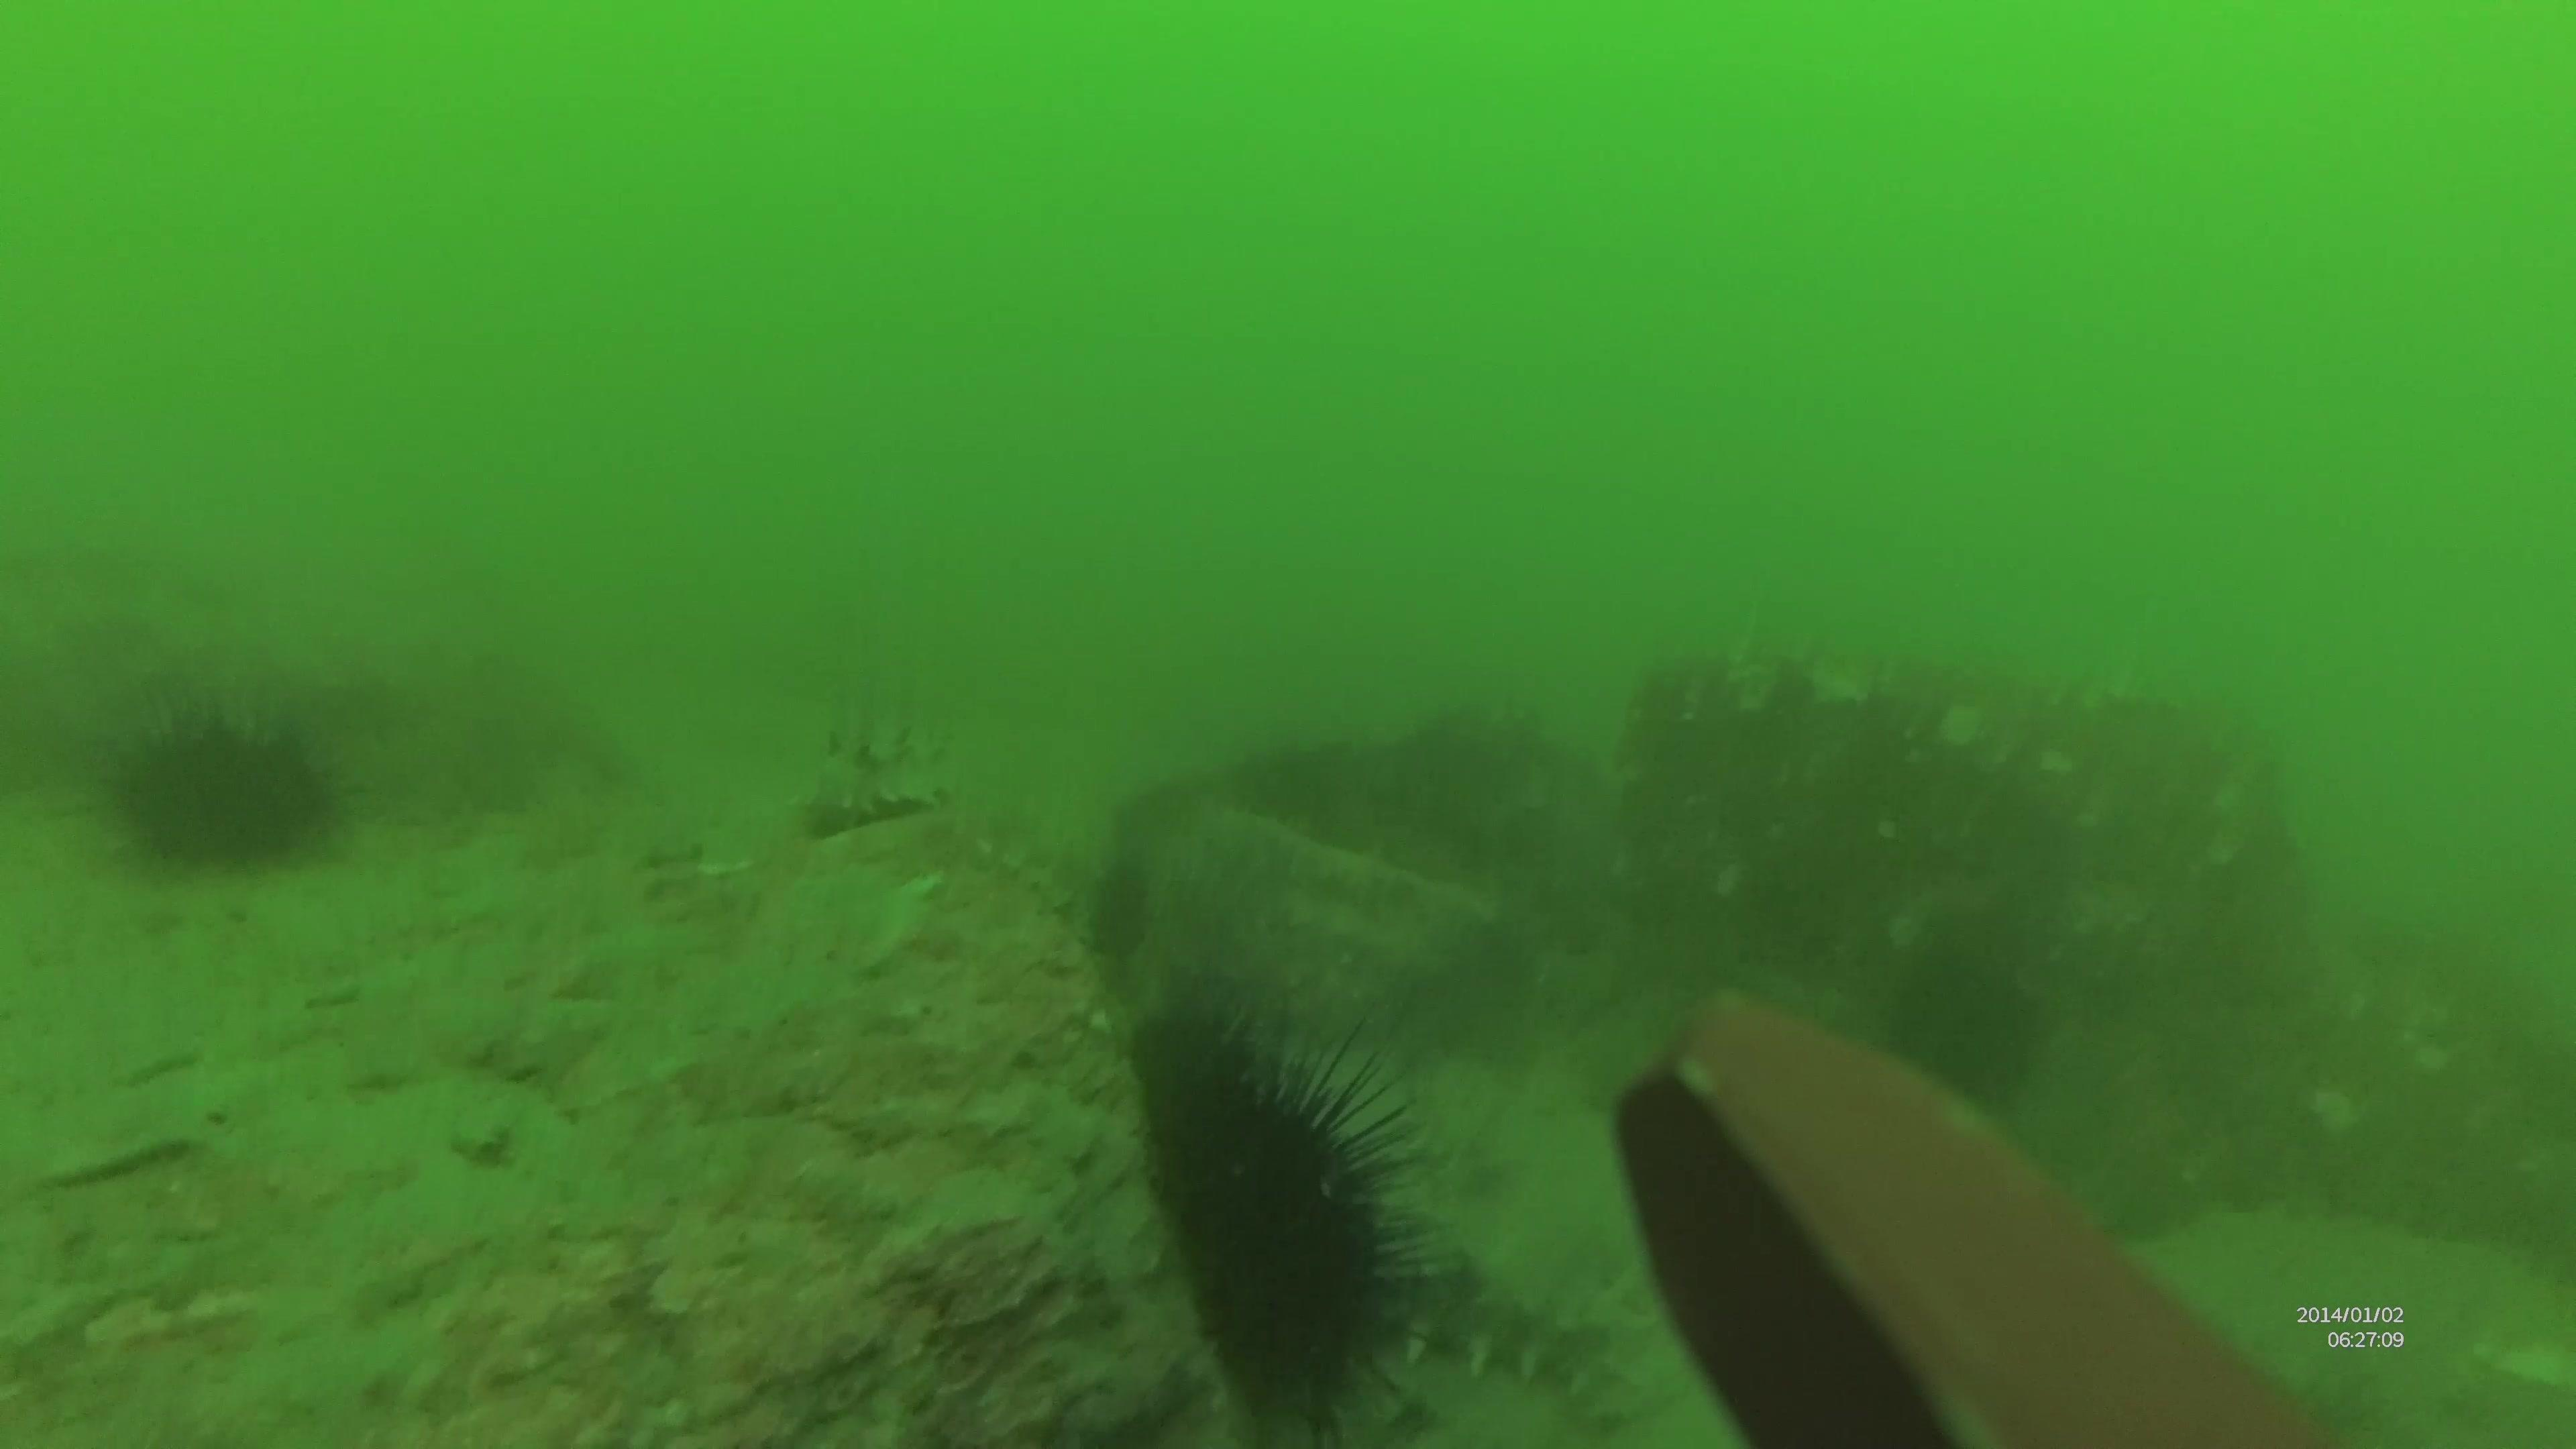echinus: (1019, 987, 1445, 1449), (97, 702, 352, 872)
holothurian: (805, 708, 1079, 920)
